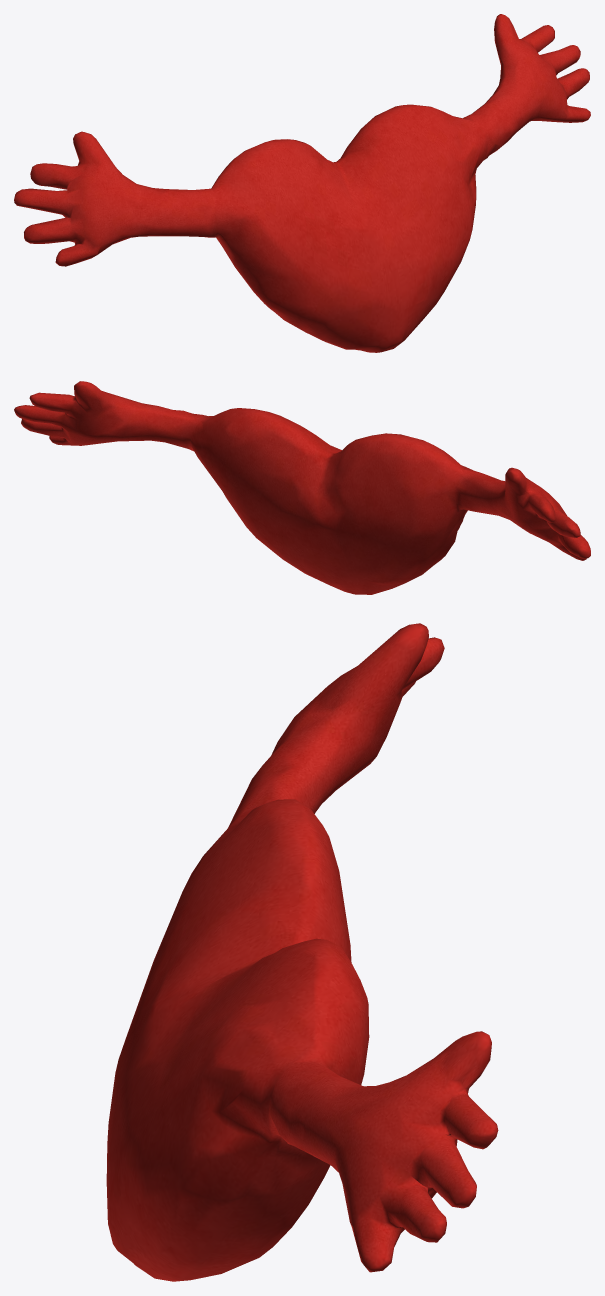
Rendered from FAMNIG HJÄRTA Coussin rouge 40x101 cm.glb.
3 renders of one model, top to bottom at view 1: azimuth 30°, elevation 25°; view 2: azimuth 150°, elevation 25°; view 3: azimuth 270°, elevation 25°, orthographic. The views are drawn at different scales.
Visible parts, largest first — view 1: ProcessedMeshNode; view 2: ProcessedMeshNode; view 3: ProcessedMeshNode.
Boxes of the visible parts, x1=… form: ProcessedMeshNode: x1=14, y1=14, x2=590, y2=352; ProcessedMeshNode: x1=14, y1=381, x2=590, y2=594; ProcessedMeshNode: x1=106, y1=623, x2=498, y2=1281.
Bounding box in the file's own units: 0.8893 × 0.3271 × 0.2728.
1 material, 1 textured.
